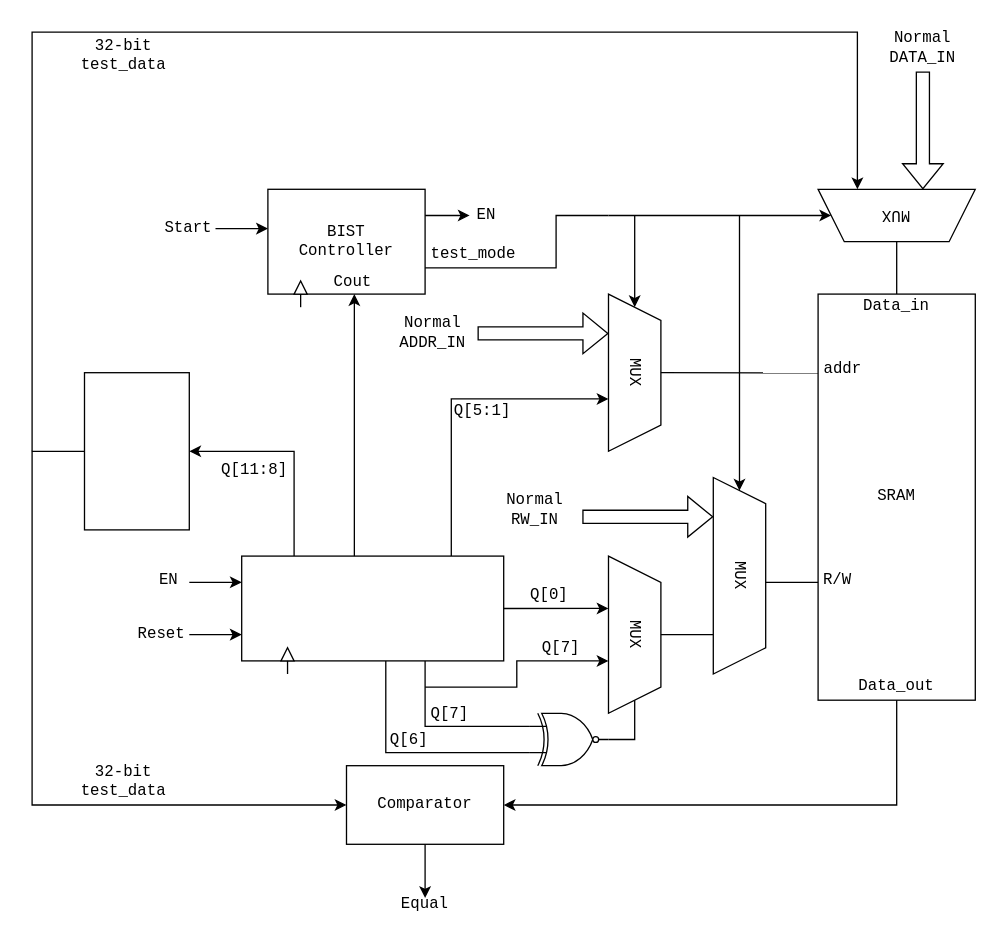
Some shapes in this 998 by 937 pixel diagram are drawn without their labels. The shapes that lost their labels are listed below. From the top down, each one's centre as x and y in pixels, then its label:
At pixel 136 450: "4:32 Decoder".
At pixel 372 608: "12-bit Counter".
